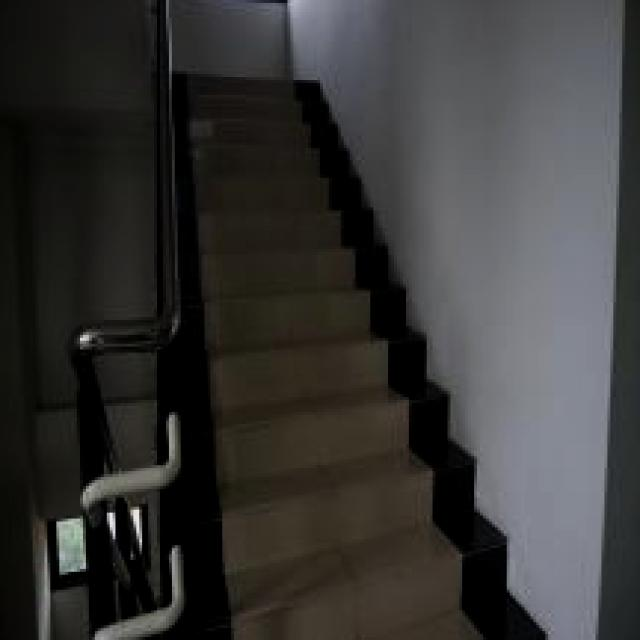upstair: (182, 152, 505, 640)
